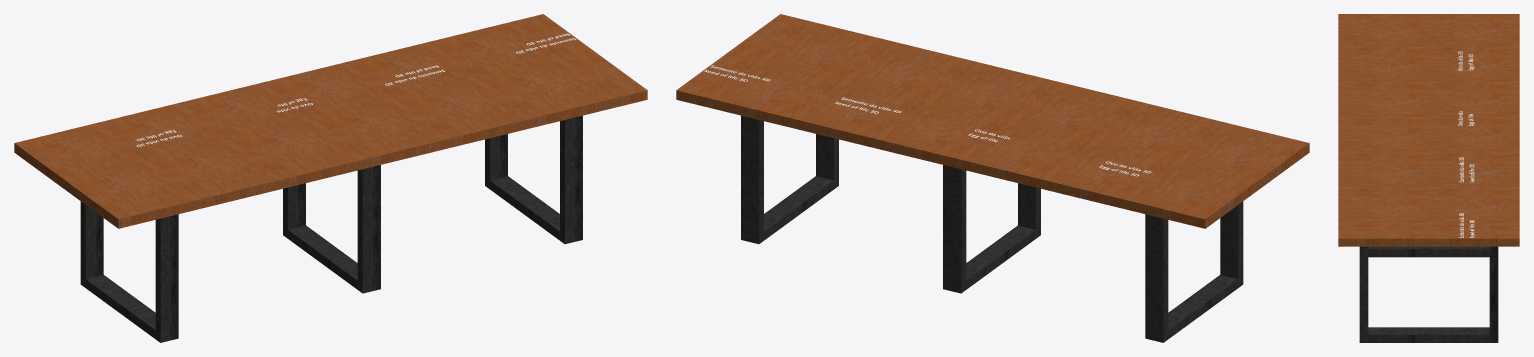
Rendered from geomSagrada2.glb.
3 views of the same model, side by side, from view 1: azimuth 30°, elevation 25°; view 2: azimuth 150°, elevation 25°; view 3: azimuth 270°, elevation 25° (orthographic). The views are drawn at different scales.
Visible parts, largest first — view 1: object 1, Composant#1 (×3); view 2: object 1, Composant#1 (×3); view 3: object 1, Composant#1 (×2), Semente da vida #1 (×2).
Part boxes in pixels (x1,y1,x2,y2): object 1: [14, 14, 647, 228]; Composant#1 (×3): [80, 115, 582, 342]; object 1: [676, 14, 1309, 228]; Composant#1 (×3): [741, 115, 1243, 342]; object 1: [1338, 14, 1519, 246]; Composant#1 (×2): [1359, 246, 1498, 342]; Semente da vida #1 (×2): [1459, 157, 1474, 237].
Size of the model in its own units: 2.93 by 0.771 by 1.
3 materials, 2 textured.
